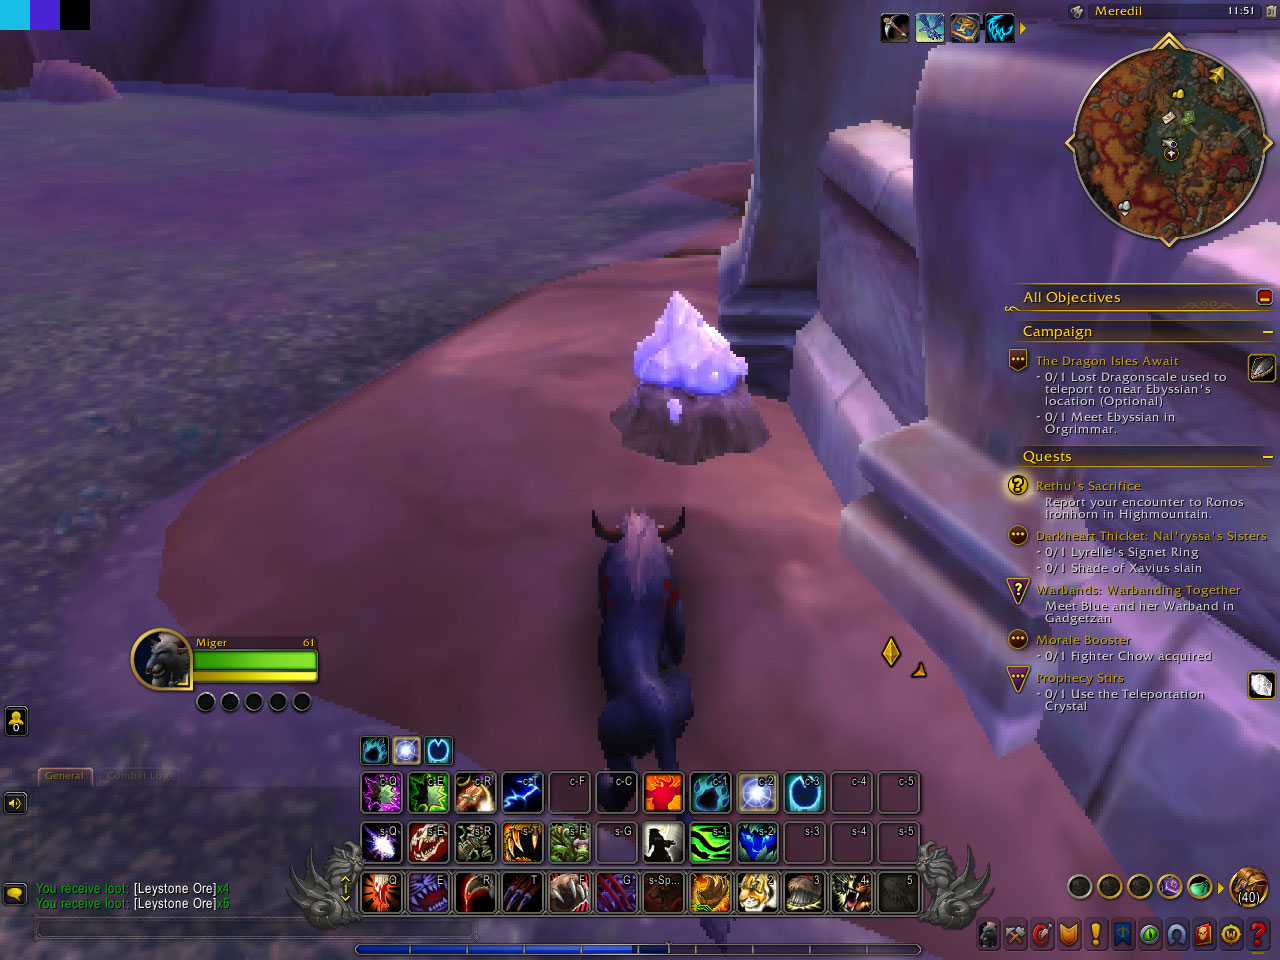ore: (606, 290, 776, 468)
